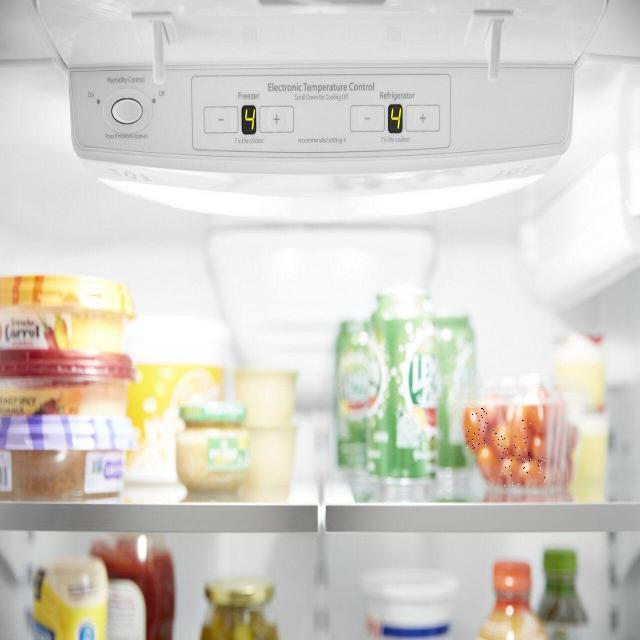tomato: (466, 406, 489, 451), (478, 447, 501, 485), (512, 420, 531, 457), (500, 457, 522, 486), (522, 457, 545, 483), (528, 403, 545, 433), (493, 424, 510, 453)
